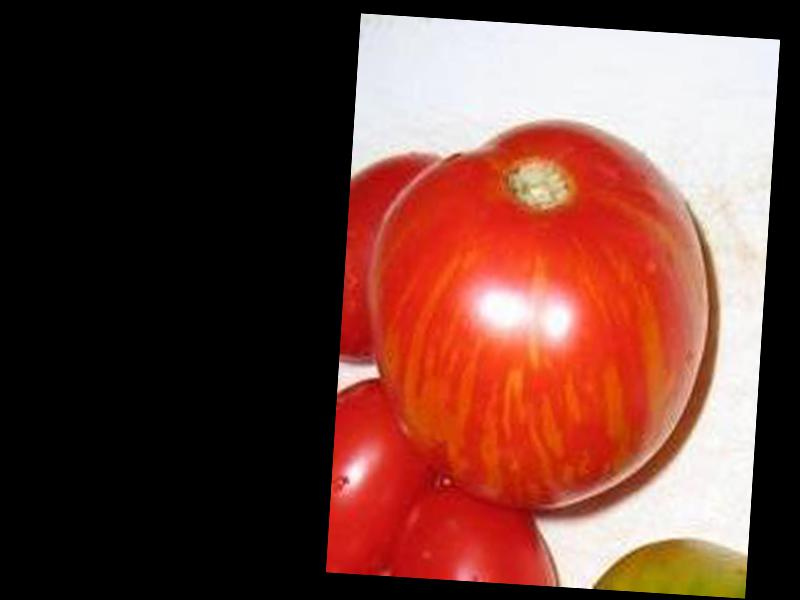Tomato: (353, 104, 720, 522)
